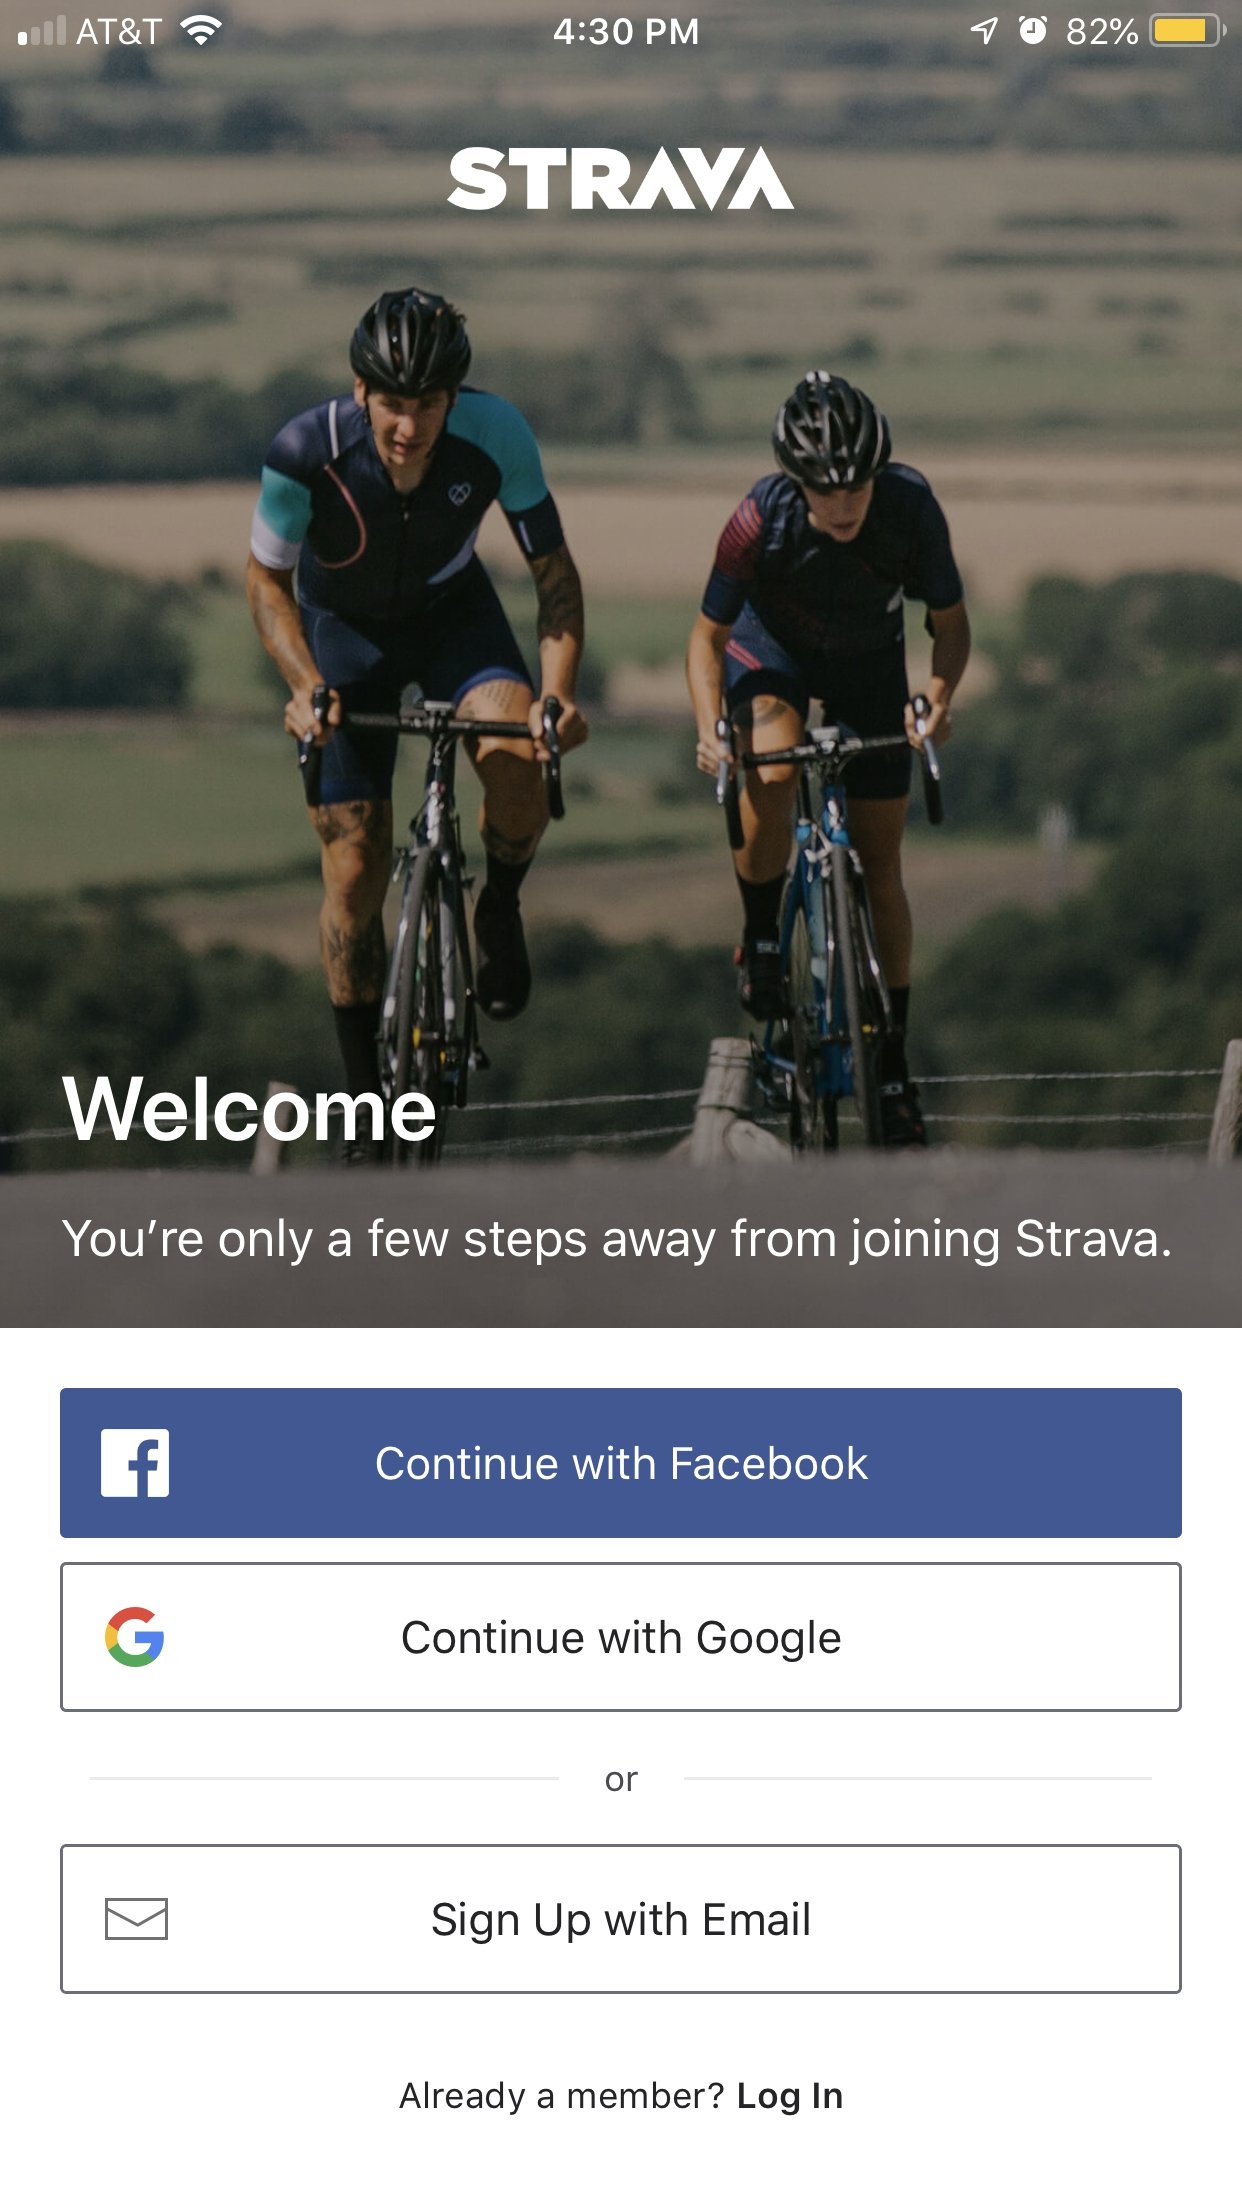Image: (2, 2, 1242, 1328), (447, 147, 796, 212)
Text: (61, 1218, 1171, 1266), (62, 1077, 437, 1143), (399, 2081, 843, 2115), (607, 1771, 638, 1791)
TextButton: (61, 1844, 1183, 1996), (61, 1562, 1183, 1714), (61, 1388, 1183, 1539)
UpperTaskBar: (2, 2, 1242, 49)
